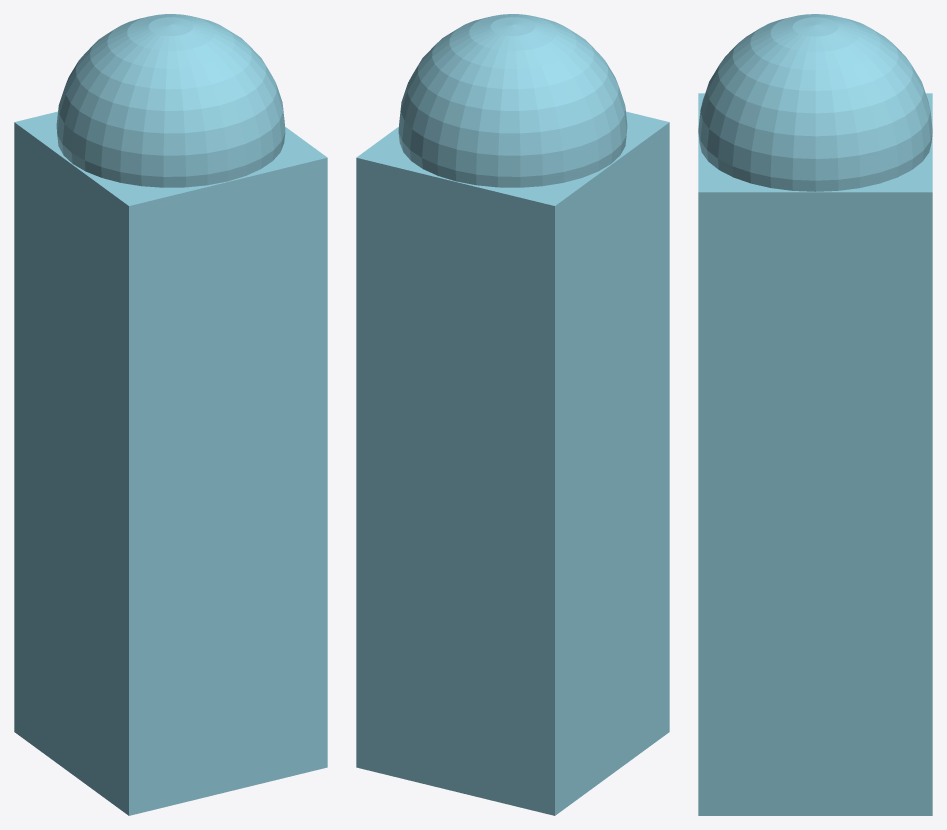
Rendered from player_left_arm_down.obj.
3 views of the same model, side by side, from view 1: azimuth 30°, elevation 25°; view 2: azimuth 150°, elevation 25°; view 3: azimuth 270°, elevation 25° (orthographic). The views are drawn at different scales.
Parts seen in each view (by area): view 1: 立方體.003, 球體.004_球體.005; view 2: 立方體.003, 球體.004_球體.005; view 3: 立方體.003, 球體.004_球體.005.
Boxes of the visible parts, x1,y1,x2,y2 form: 立方體.003: (14, 111, 327, 815); 球體.004_球體.005: (56, 14, 285, 187); 立方體.003: (356, 111, 669, 815); 球體.004_球體.005: (398, 14, 627, 187); 立方體.003: (698, 93, 932, 815); 球體.004_球體.005: (698, 14, 932, 191).
Size of the model in its own units: 0.4103 by 1.43 by 0.4103.
Materials: 2 (2 with a texture image).
